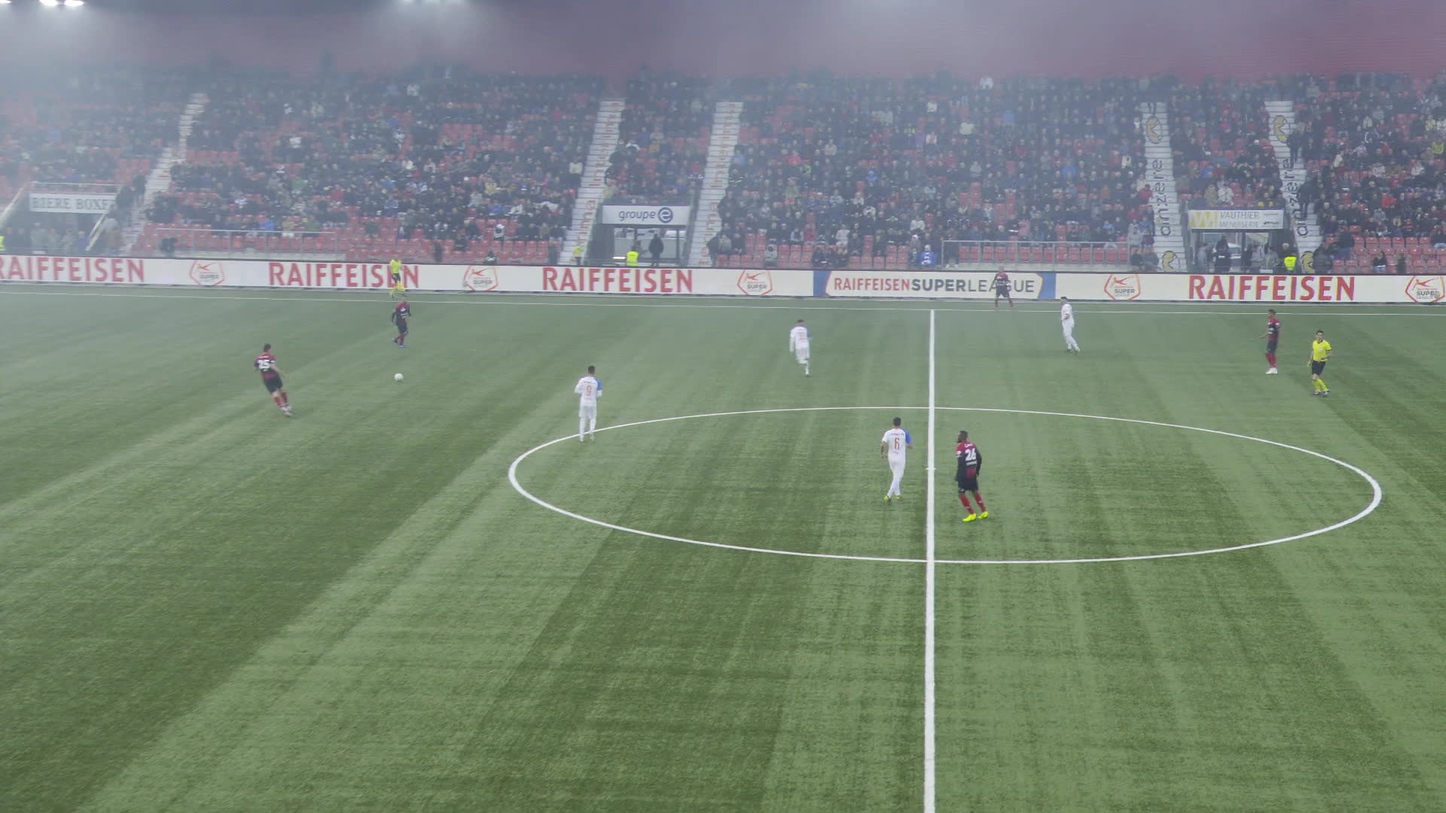ball: (394, 373, 403, 381)
player: (953, 430, 988, 520), (880, 417, 912, 504), (254, 343, 292, 416), (574, 366, 602, 443), (1259, 309, 1280, 374), (789, 318, 811, 375), (1059, 296, 1079, 354), (988, 266, 1014, 309), (390, 295, 411, 348)
referee: (1307, 330, 1332, 397), (389, 254, 401, 299)
